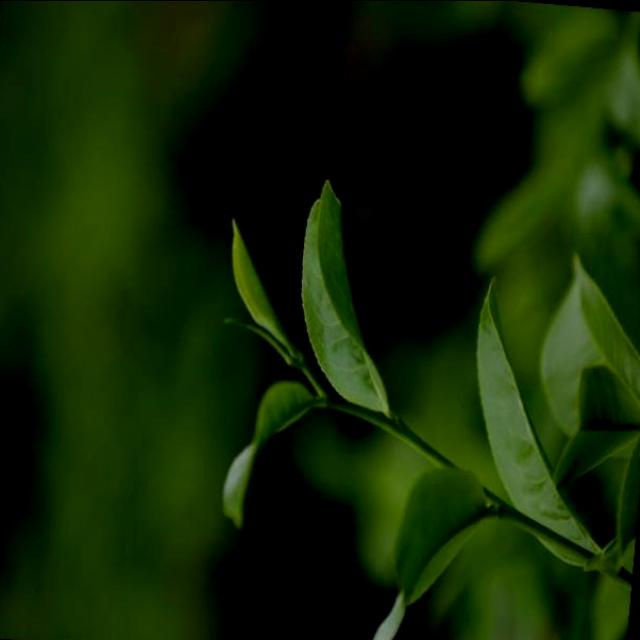Stem: (327, 397, 339, 407)
